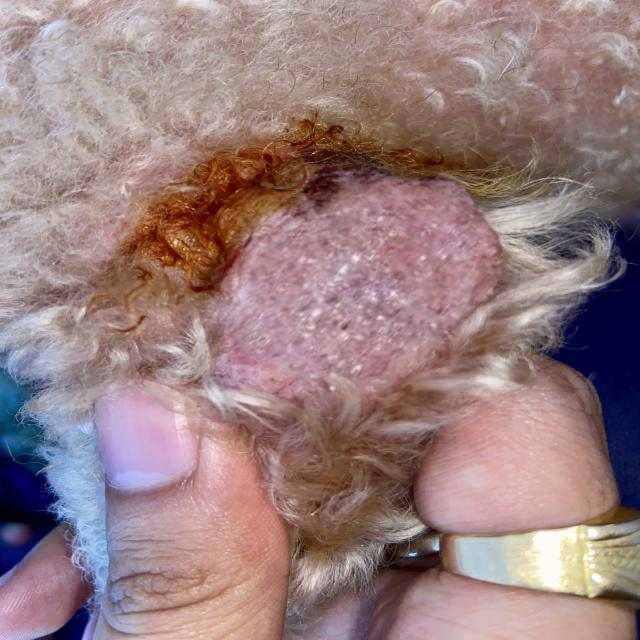ringworm: (184, 131, 547, 431)
